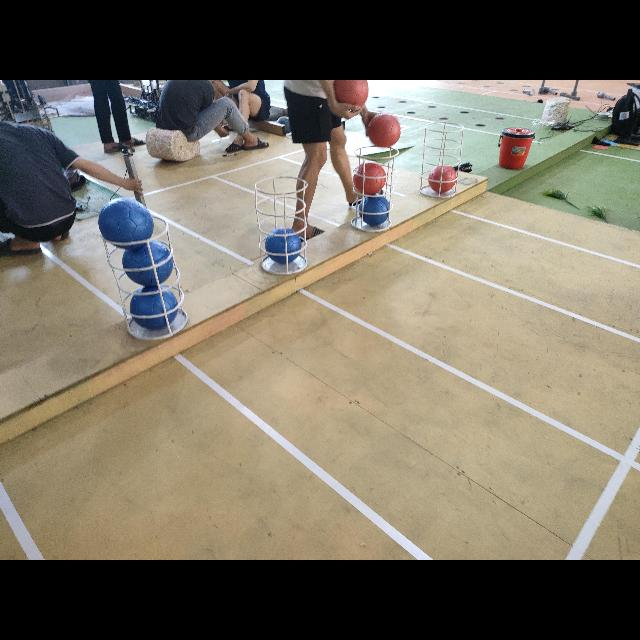B: (98, 198, 154, 248), (122, 242, 172, 286), (129, 288, 179, 329), (266, 228, 302, 264), (359, 196, 389, 224)
R: (353, 161, 387, 195), (367, 113, 401, 147), (428, 164, 456, 192)
